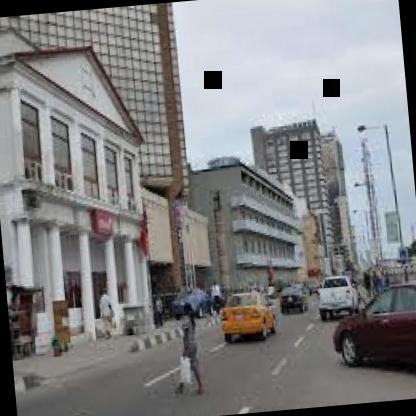car: (306, 274, 416, 389), (205, 284, 283, 351), (314, 258, 364, 322), (160, 280, 224, 322), (280, 264, 312, 332)
